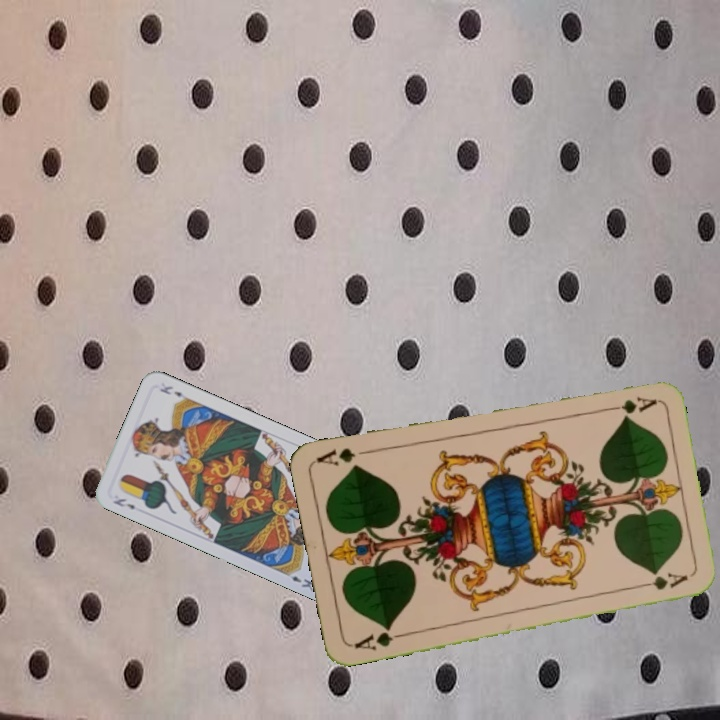EK: (109, 494, 138, 512)
GA: (350, 622, 407, 653), (599, 393, 659, 416)
